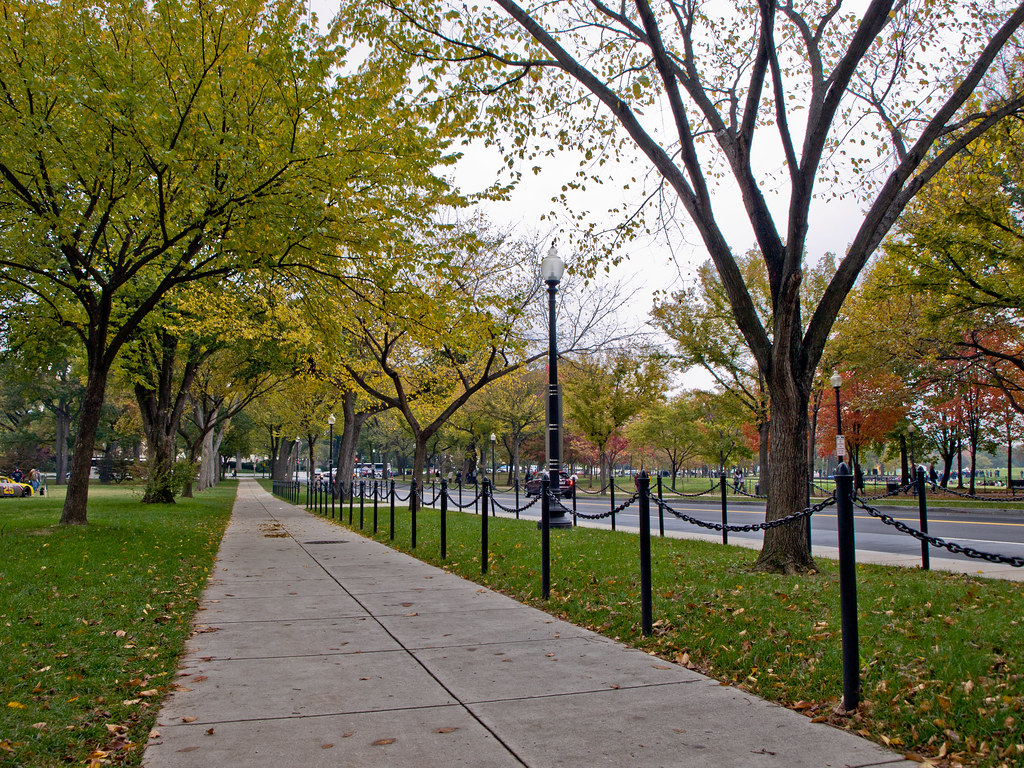Tree: (563, 1, 996, 585), (1, 1, 212, 525), (289, 245, 524, 527)
